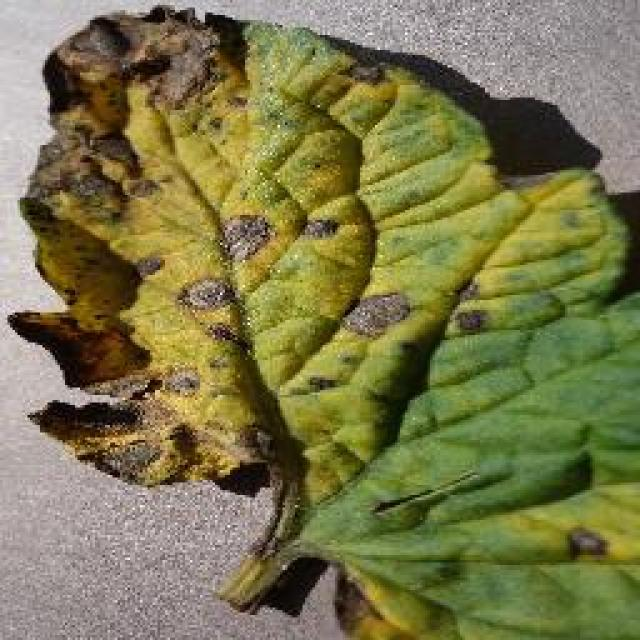Tomato___Early_blight: (3, 1, 638, 638)
